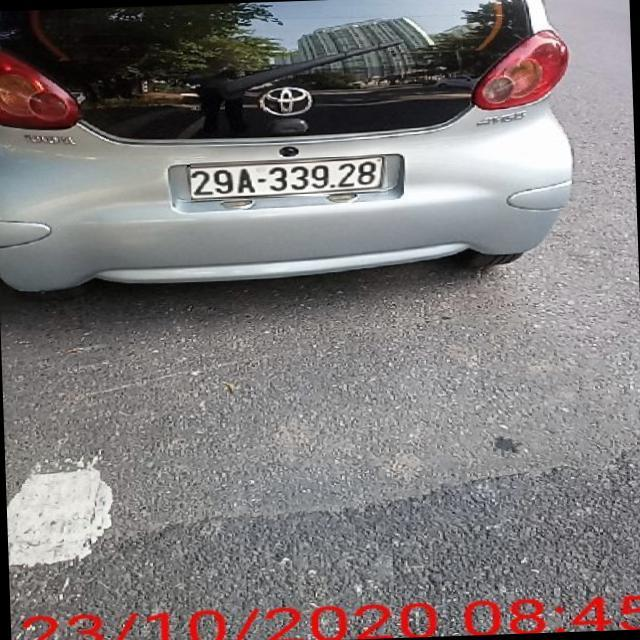car: (0, 0, 583, 292)
plate: (184, 154, 388, 202)
